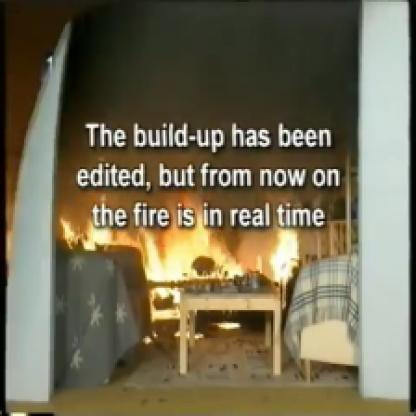fire: (121, 199, 245, 304), (252, 206, 317, 288), (58, 196, 126, 249), (133, 272, 191, 333), (212, 308, 247, 336)
